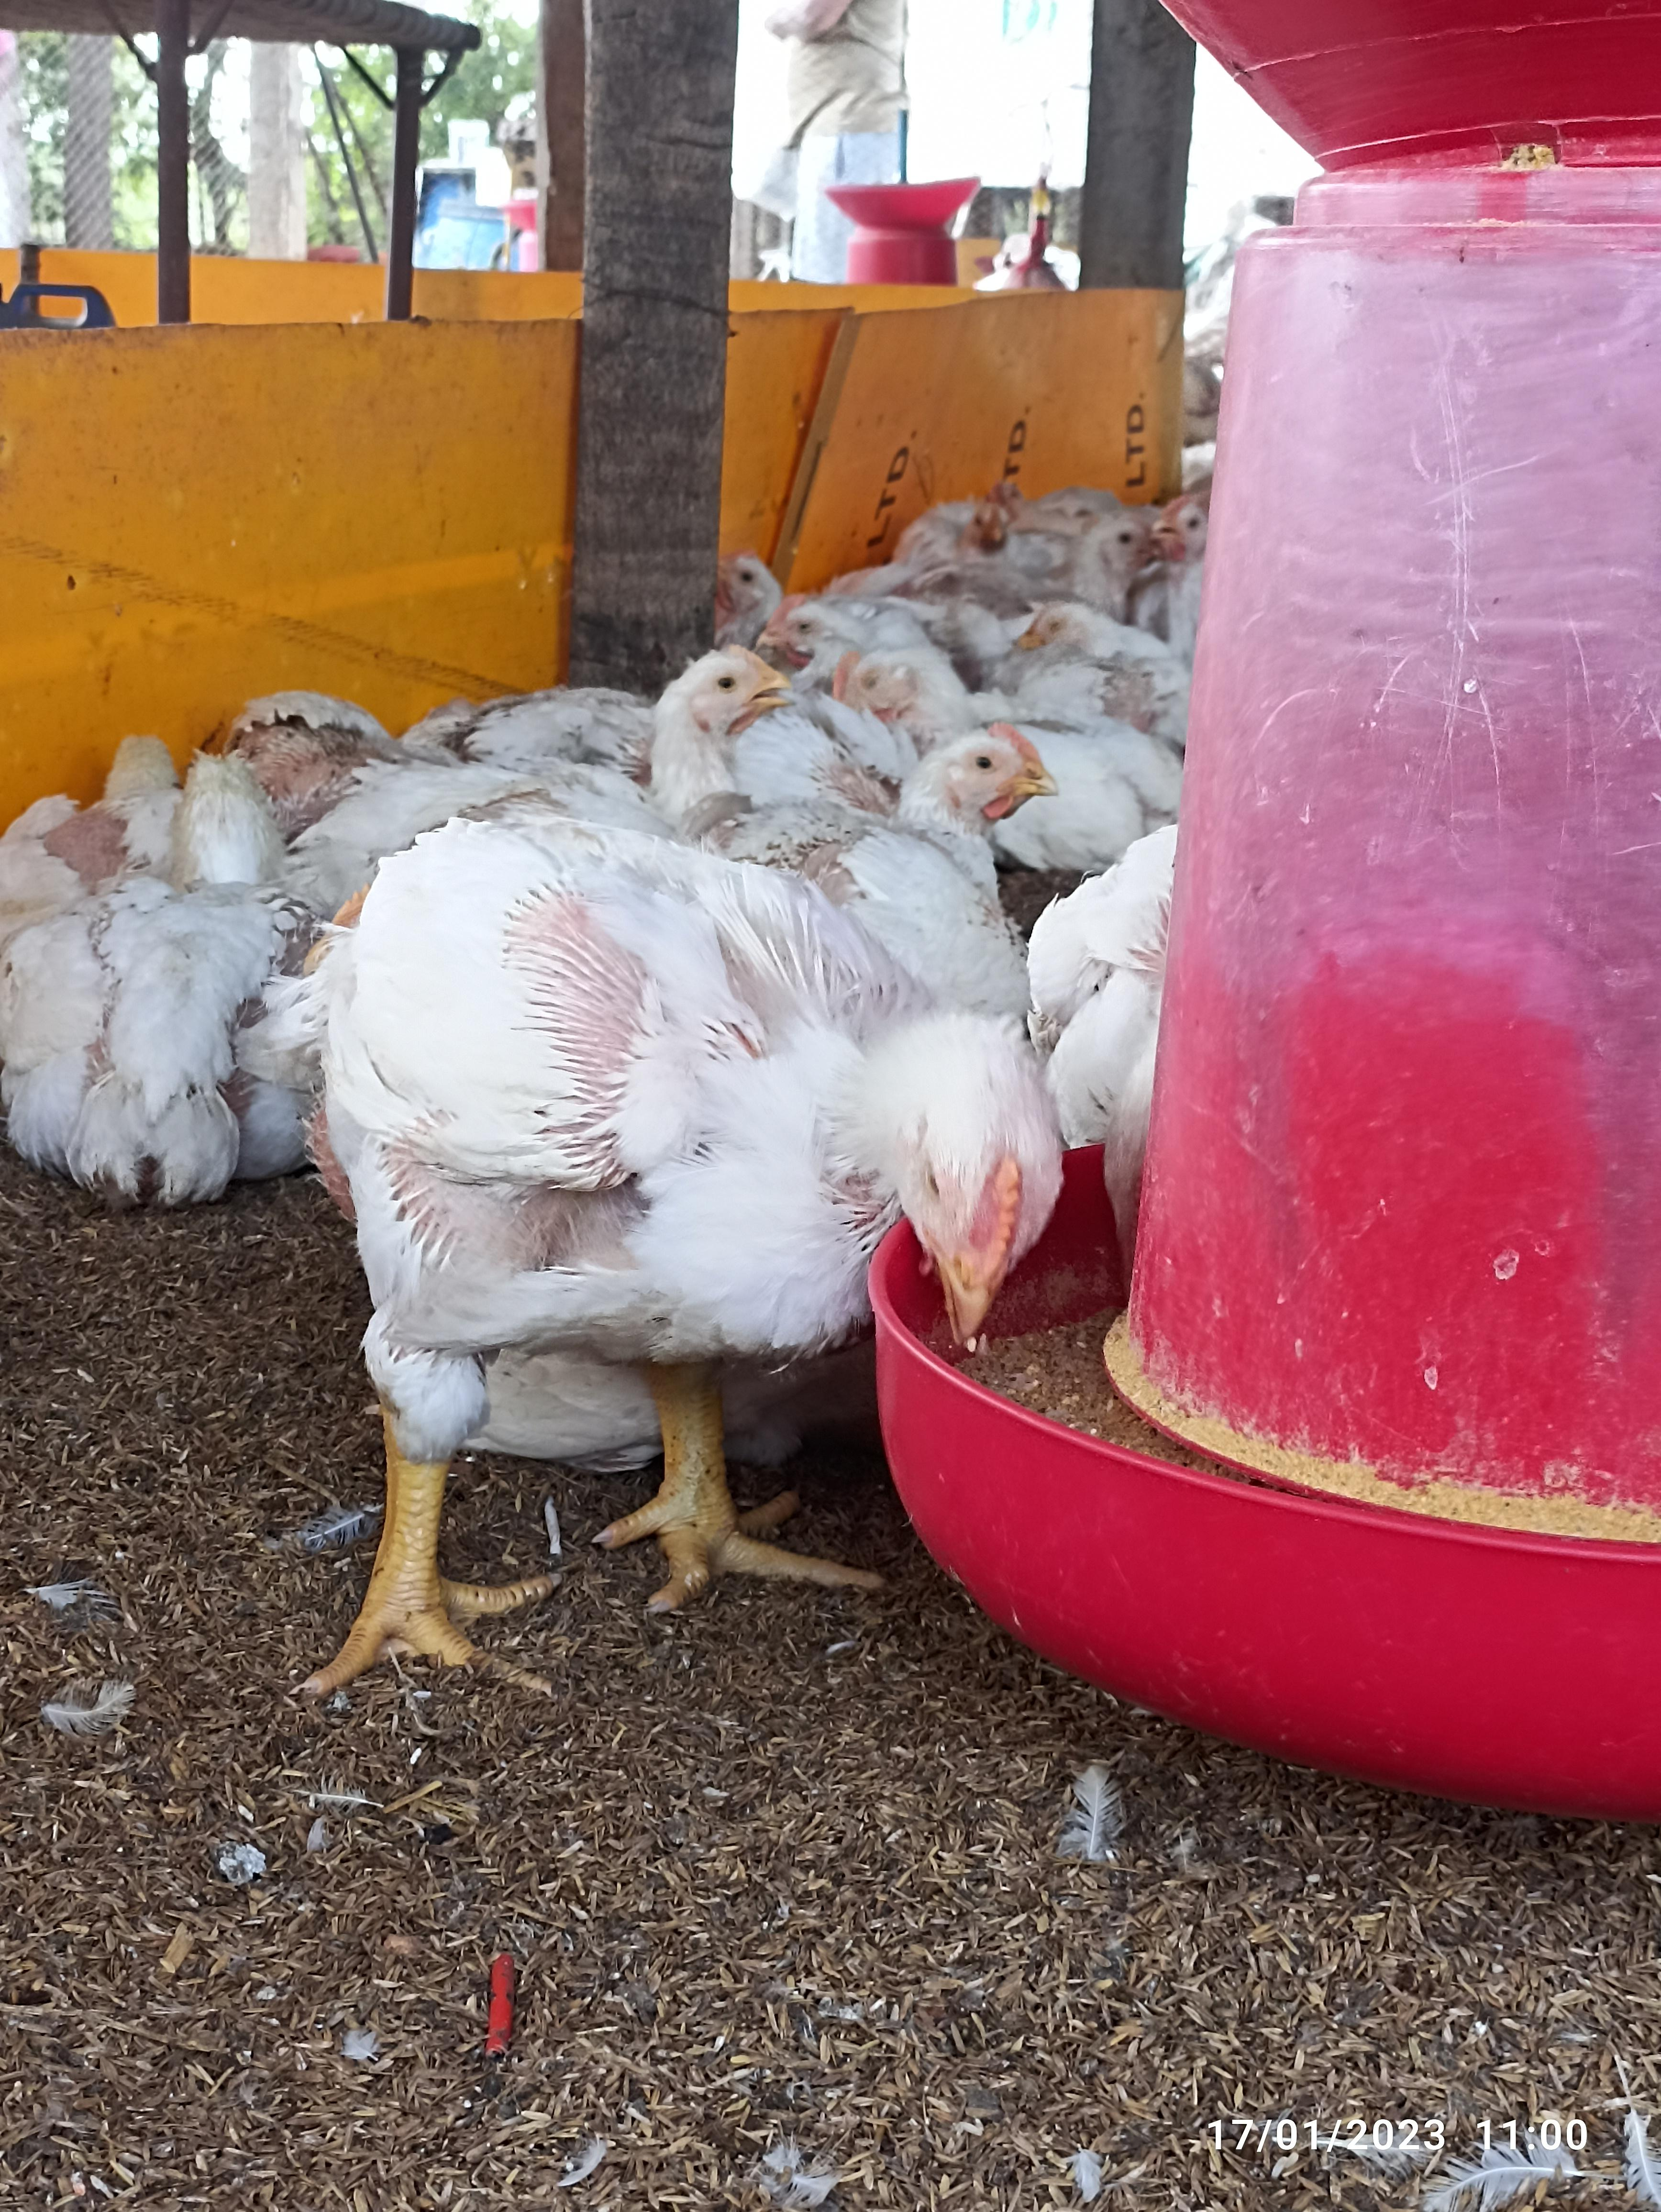Pollos: (349, 820, 1054, 1352), (5, 799, 291, 1178), (906, 715, 1047, 867), (670, 633, 761, 836)
